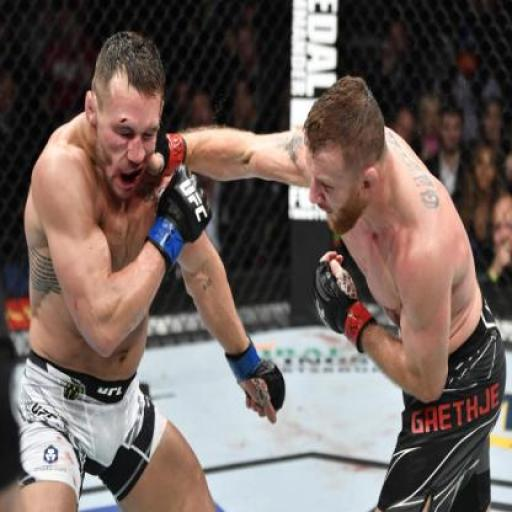Fighting: (14, 28, 506, 512)
